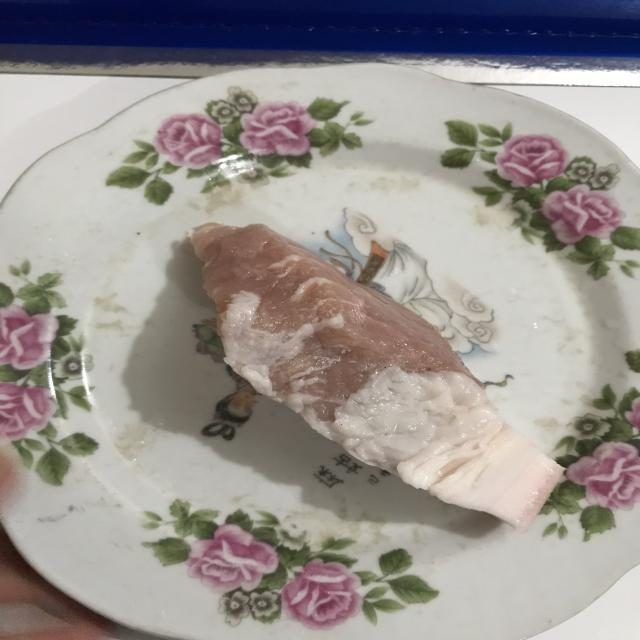chicken: (188, 225, 568, 533)
